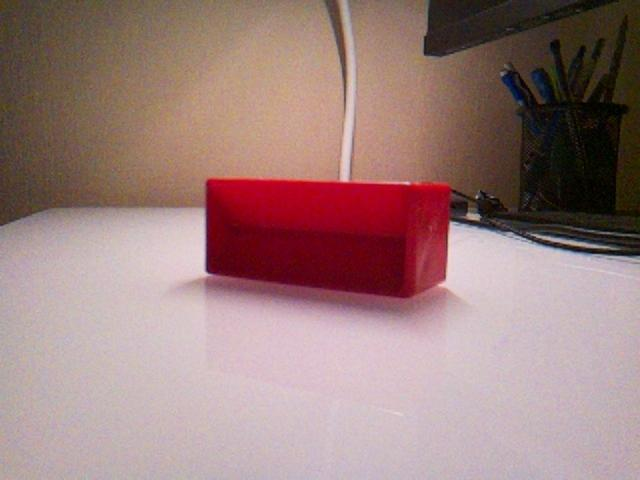red: (204, 175, 453, 299)
